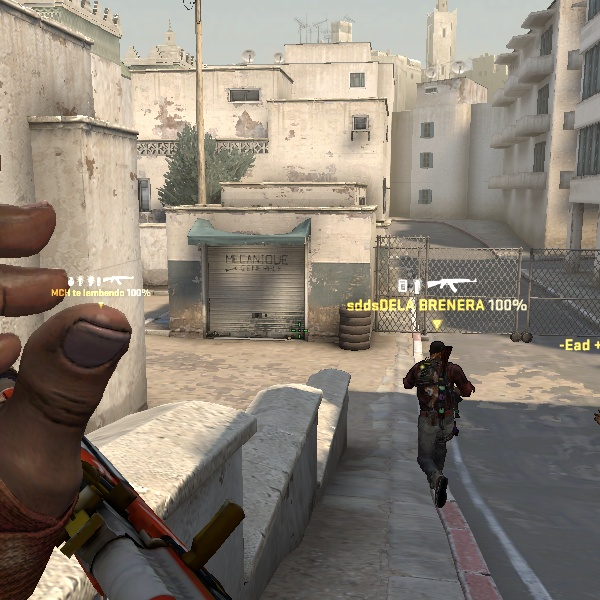t_body: (391, 335, 487, 511)
t_head: (421, 335, 456, 372)
